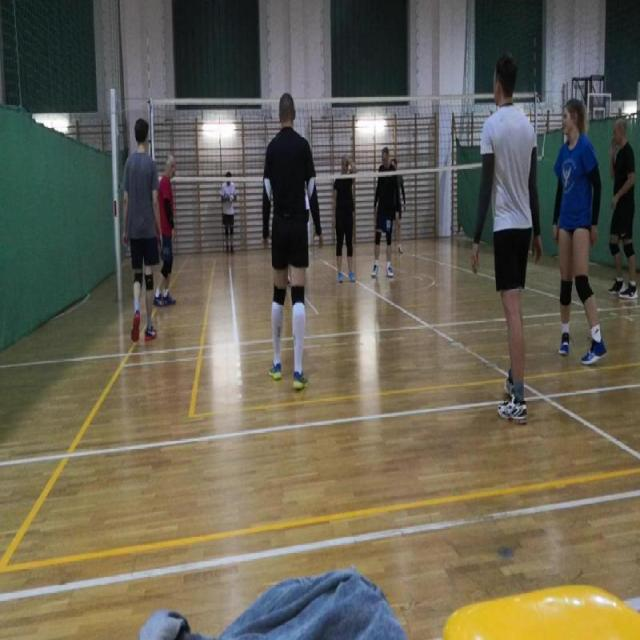volleyball: (228, 194, 234, 203)
